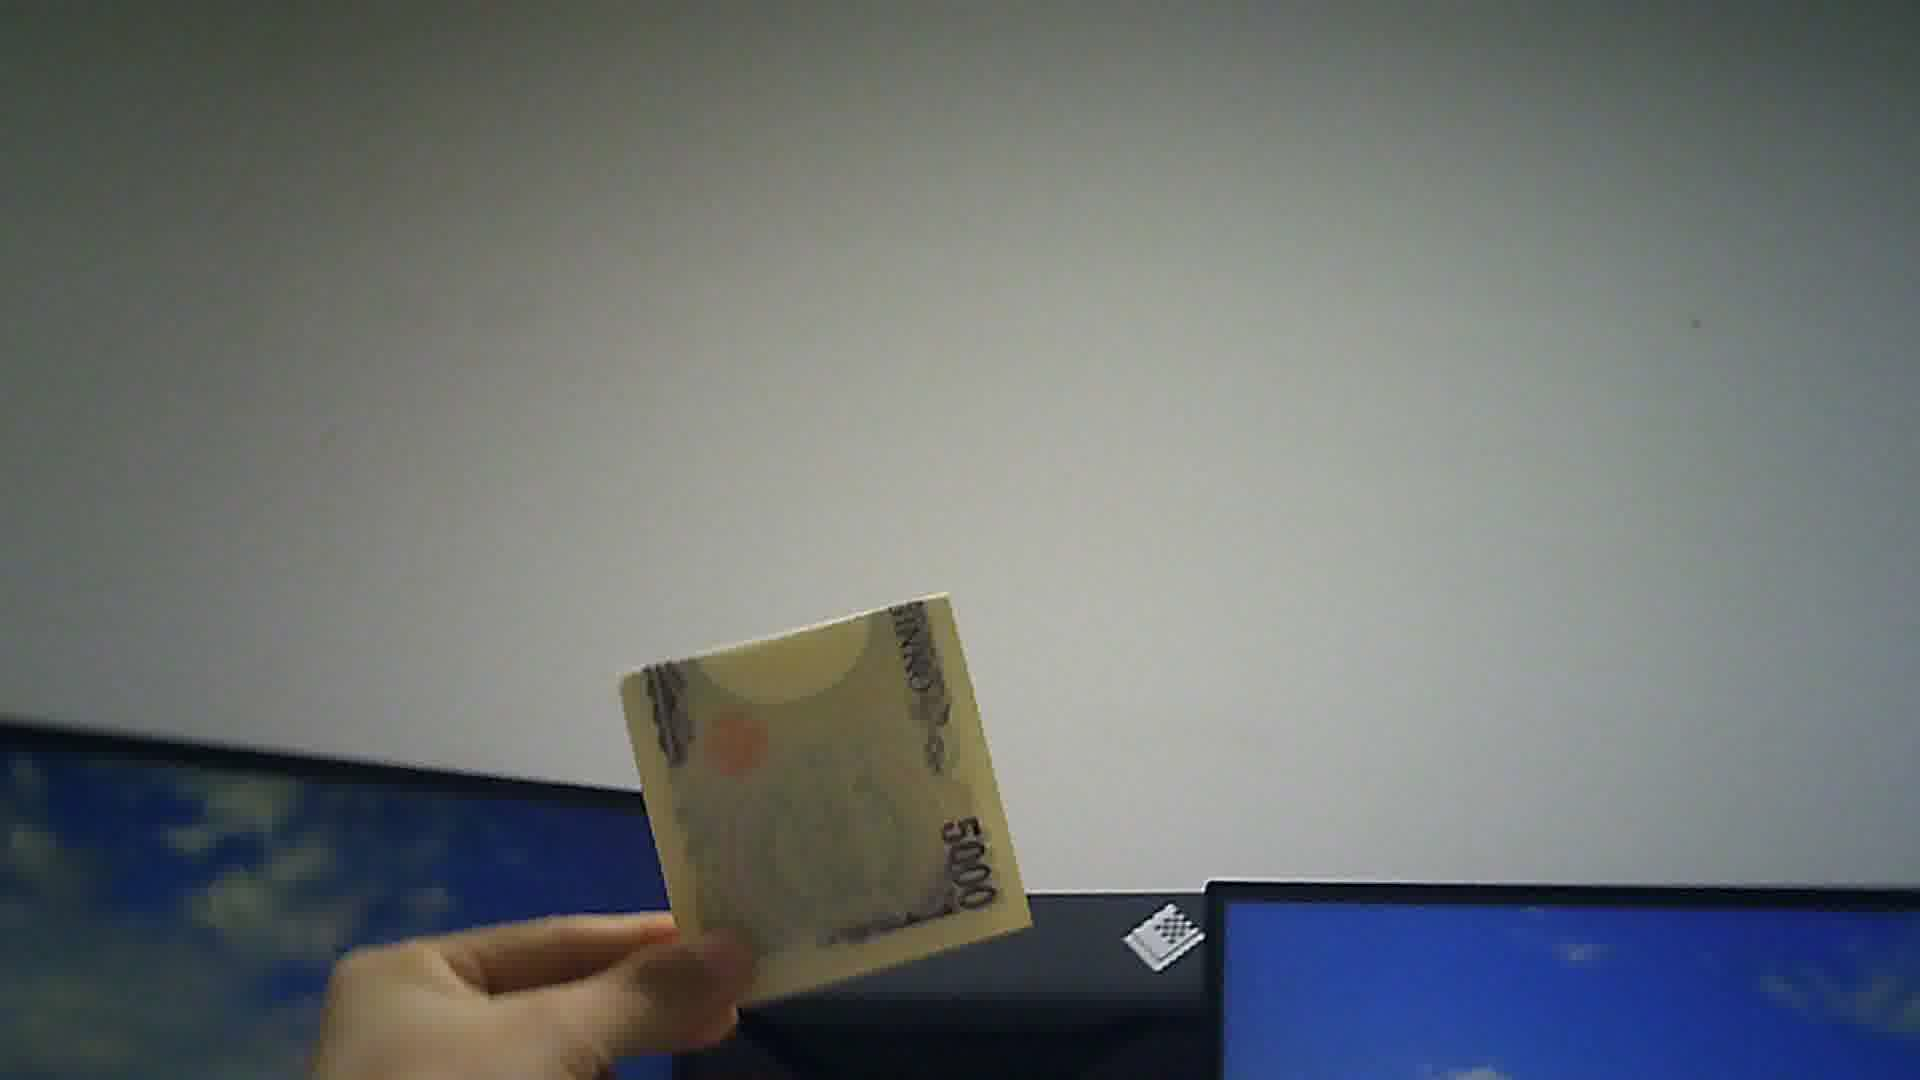5,000 Yen: (607, 579, 1044, 990)
